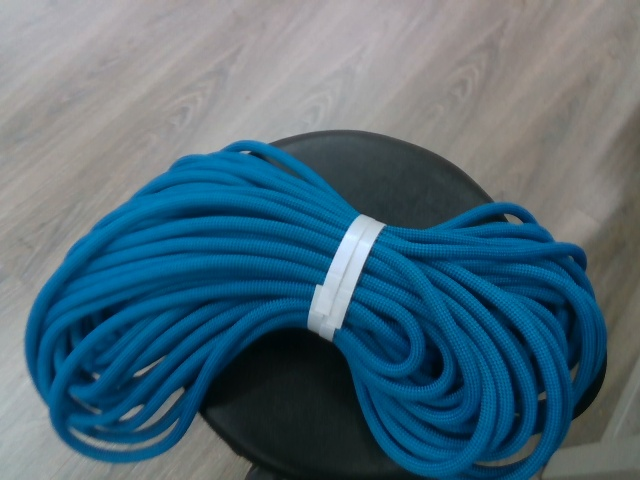rope: (21, 131, 610, 480)
